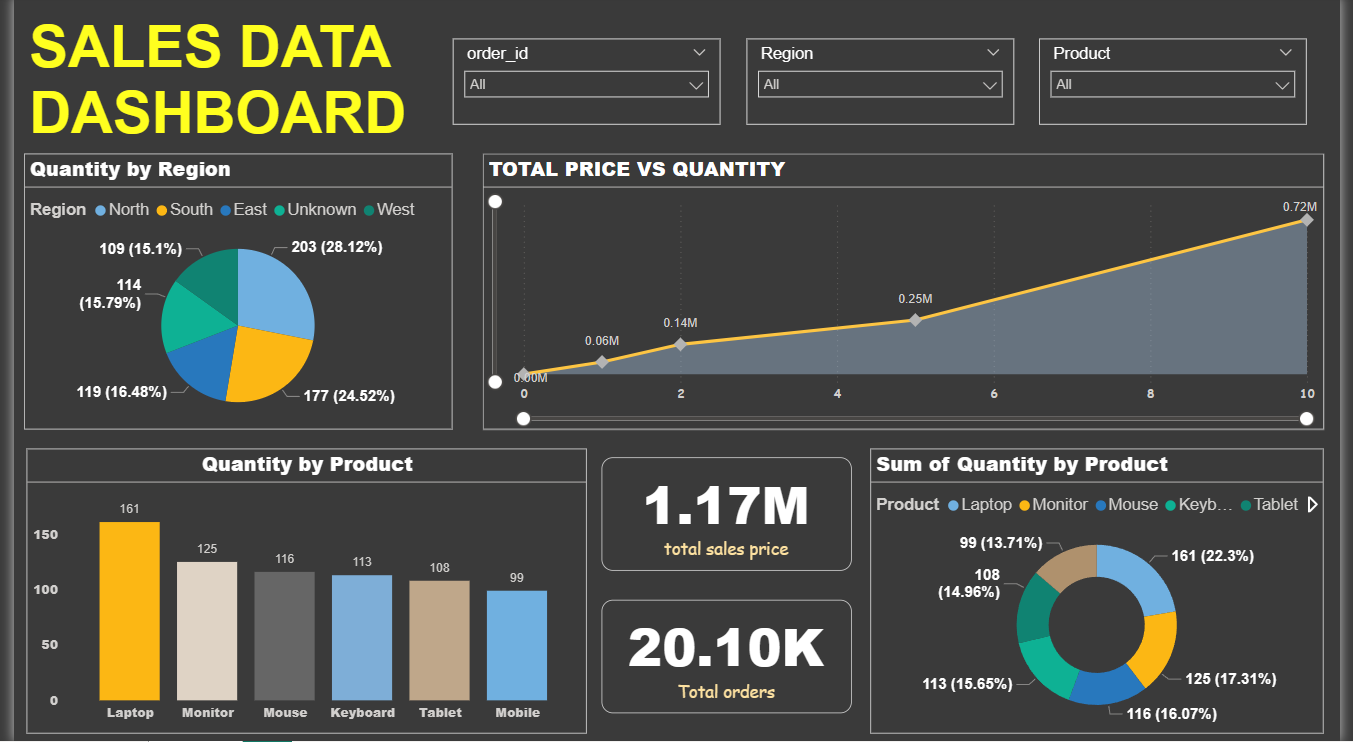

The dashboard page shown, as its layout file describes it:
{"tool":"powerbi","page":{"name":"Page 1","canvas":[1280,720],"ordinal":0},"visuals":[{"type":"textbox","box":[9.7,12.1,393.3,139.9],"z":0},{"type":"slicer","fields":{"Values":["Sheet1.order_id"]},"box":[423.5,41,258.2,83.2],"z":1000},{"type":"slicer","fields":{"Values":["Sheet1.Region"]},"box":[707,41,258.2,83.2],"z":2000},{"type":"slicer","fields":{"Values":["Sheet1.Product"]},"box":[989.3,41,258.2,83.2],"z":3000},{"type":"clusteredColumnChart","title":"Quantity by Product","fields":{"Category":["Sheet1.Product"],"Y":["Sum(Sheet1.Quantity)"]},"box":[12.1,436.7,540.5,275.1],"z":4000},{"type":"pieChart","title":"Quantity by Region","fields":{"Category":["Sheet1.Region"],"Y":["Sum(Sheet1.Quantity)"]},"box":[9.7,152,413.8,266.6],"z":5000},{"type":"lineChart","title":"TOTAL PRICE VS QUANTITY","fields":{"Y":["Sum(Sheet1.total_price)"],"Category":["Sheet1.Quantity"]},"box":[452.4,152,811.9,266.6],"z":6000},{"type":"card","title":"TOTAL SALES PRICE","fields":{"Values":["Sum(Sheet1.total_price)"]},"box":[567,445.2,241.3,109.8],"z":7000},{"type":"card","title":"TOTAL SALES PRICE","fields":{"Values":["Sum(Sheet1.order_id)"]},"box":[567,582.7,241.3,109.8],"z":8000},{"type":"donutChart","fields":{"Category":["Sheet1.Product"],"Y":["Sum(Sheet1.Quantity)"]},"box":[826.4,436.7,437.9,275.1],"z":9000}]}

Visuals, with their boxes in screenshot pixels (x1, y1, x2, y2), scaled from the page's 1280x720 canvas onto the 1353x742 screenshot:
textbox: [10,12,426,157]
slicer - Sheet1.order_id: [448,42,721,128]
slicer - Sheet1.Region: [747,42,1020,128]
slicer - Sheet1.Product: [1046,42,1319,128]
"Quantity by Product" clusteredColumnChart: [13,450,584,734]
"Quantity by Region" pieChart: [10,157,448,431]
"TOTAL PRICE VS QUANTITY" lineChart: [478,157,1336,431]
"TOTAL SALES PRICE" card: [599,459,854,572]
"TOTAL SALES PRICE" card: [599,601,854,714]
donutChart - Sheet1.Product x Sum(Sheet1.Quantity): [874,450,1336,734]
